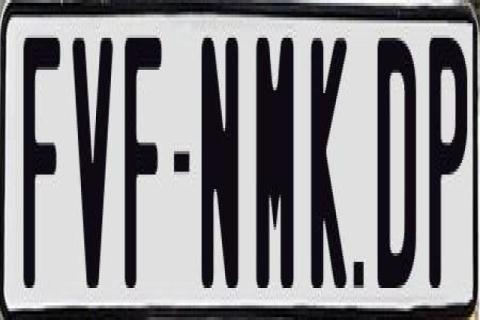D: (374, 35, 417, 288)
F: (22, 32, 60, 300), (125, 38, 162, 288)
K: (311, 38, 351, 288)
M: (253, 38, 292, 294)
N: (199, 29, 237, 288)
P: (428, 29, 464, 288)
V: (70, 32, 112, 288)
